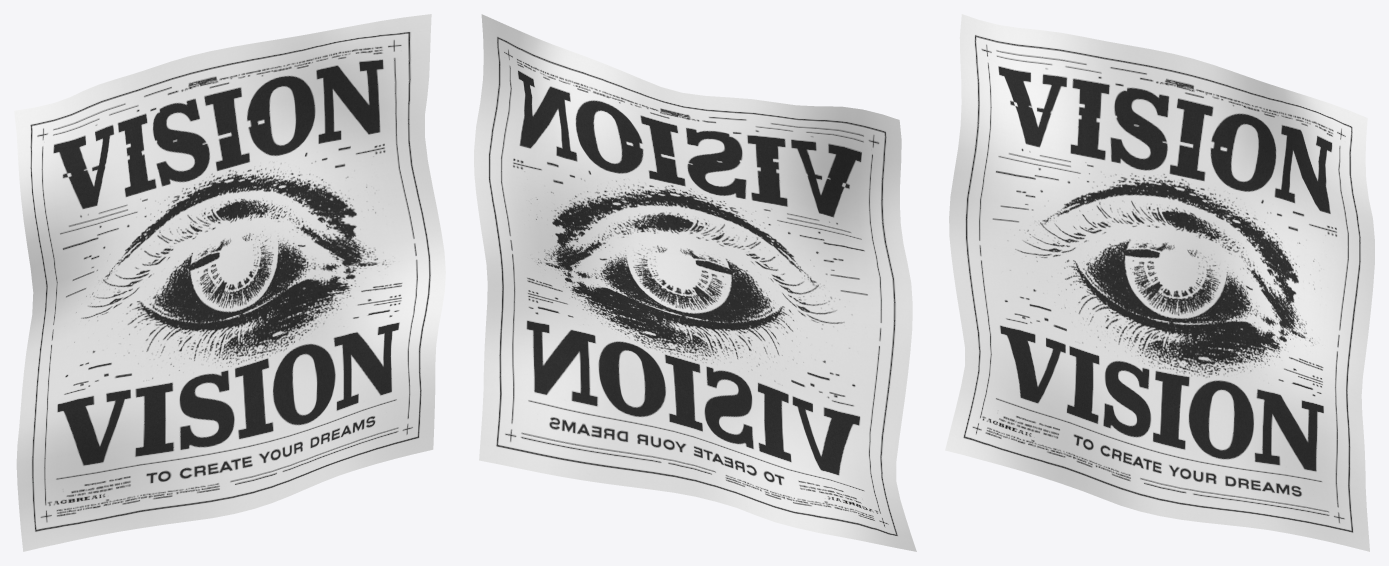
The model's file is future_gaze.glb.
3 views of the same model, side by side, from view 1: azimuth 30°, elevation 25°; view 2: azimuth 150°, elevation 25°; view 3: azimuth 330°, elevation 25° (orthographic). The views are drawn at different scales.
Parts seen in each view (by area): view 1: Plane; view 2: Plane; view 3: Plane.
Boxes of the visible parts, left/top/right/bottom form: Plane: left=14, top=14, right=445, bottom=551; Plane: left=474, top=14, right=916, bottom=551; Plane: left=945, top=14, right=1374, bottom=551.
Bounding box in the file's own units: 2.02 × 2 × 0.3284.
Materials: 1 (1 with a texture image).
